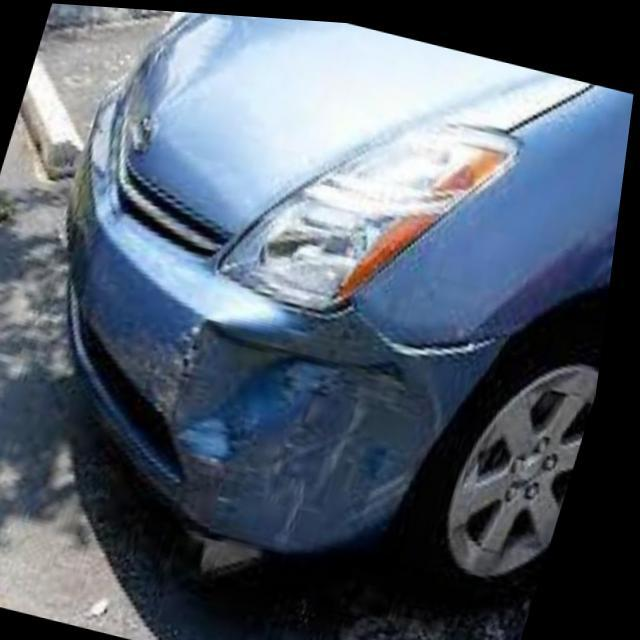dent: (157, 308, 471, 538)
